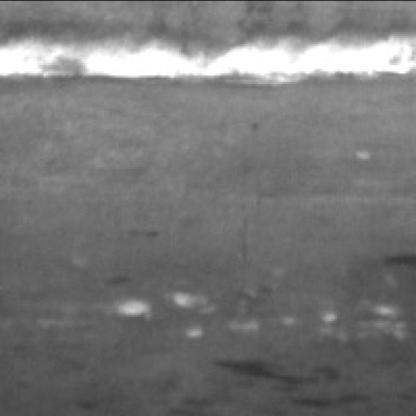inclusion: (191, 351, 385, 412)
scratches: (4, 21, 416, 85), (120, 287, 404, 339)
